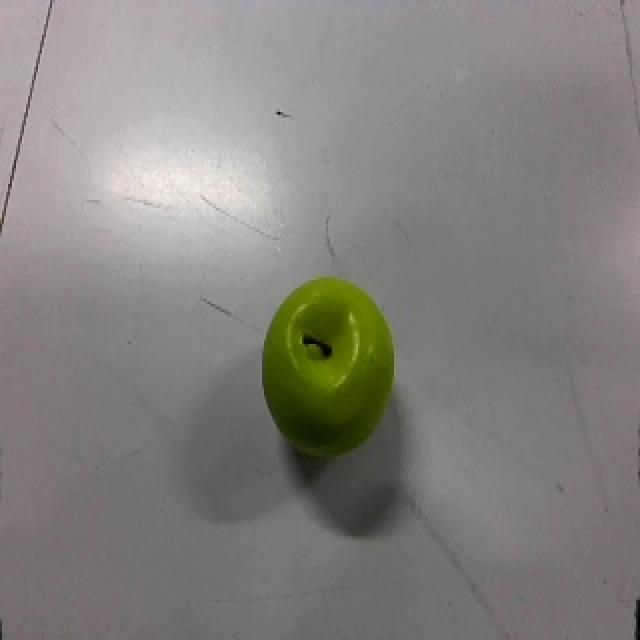apple: (261, 273, 397, 465)
